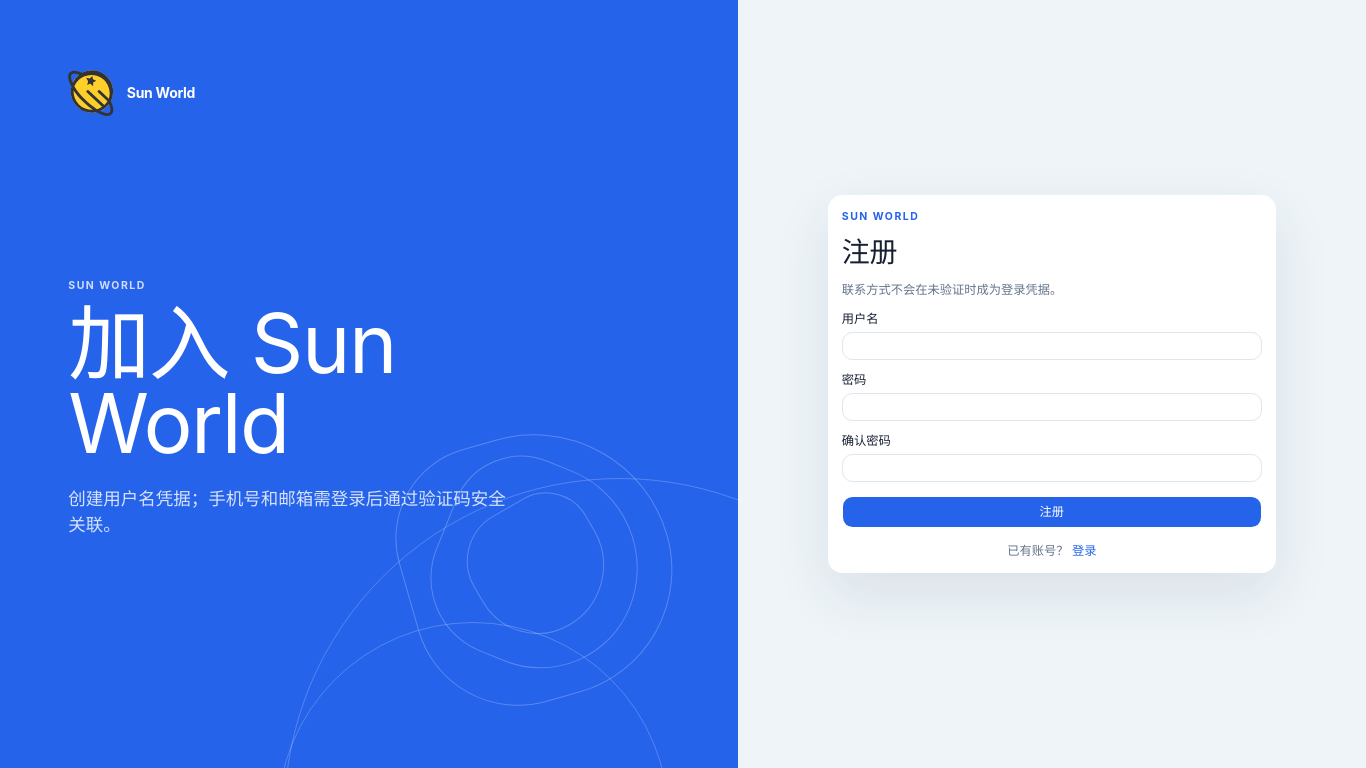
it: account pages › validates password confirmation before registration
The width and height of the screenshot is (1366, 768).
Type "Tester" into the field labelled "用户名".
click(1052, 346); type("Tester")  # box [842, 332, 1262, 360]
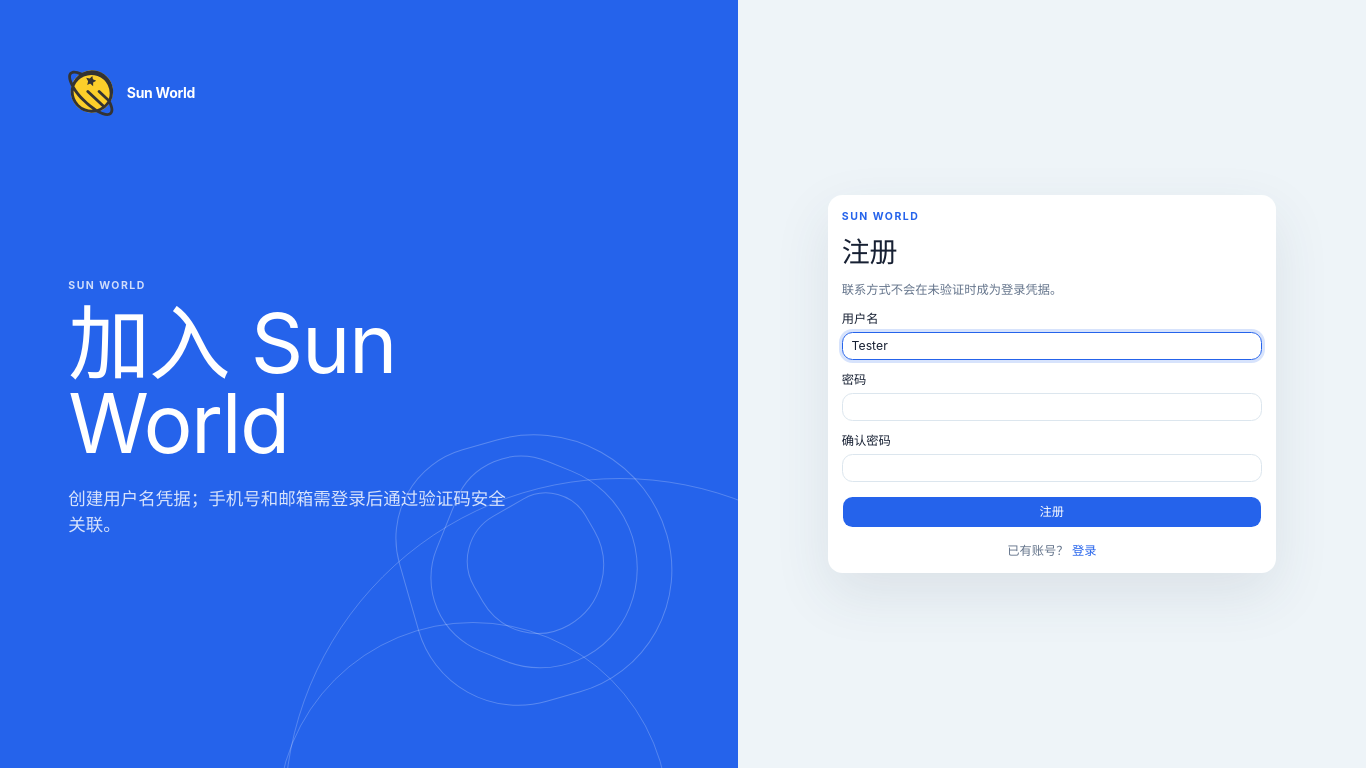
Type "secret11" into the password field labelled "密码".
click(1052, 407); type("secret11")  # box [842, 393, 1262, 421]
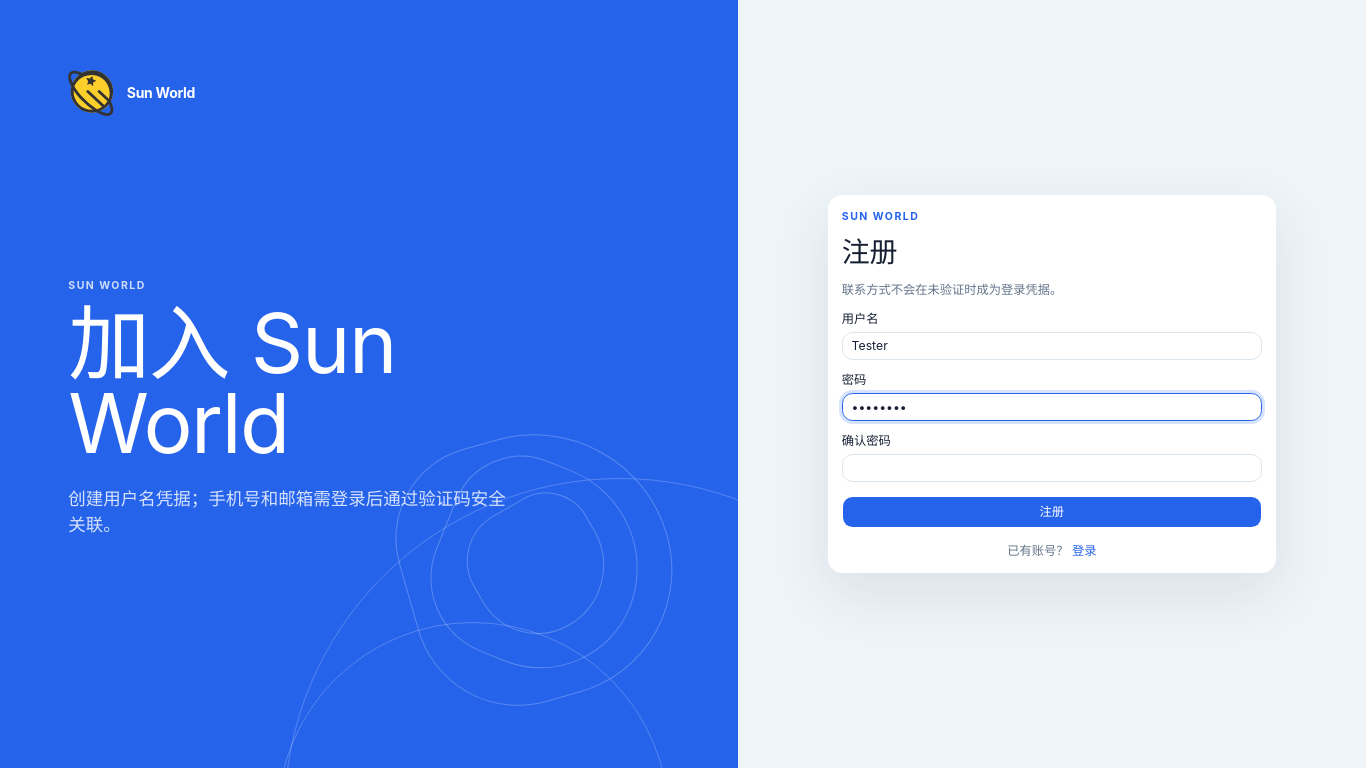
Type "secret22" into the password field labelled "确认密码".
click(1052, 468); type("secret22")  # box [842, 454, 1262, 482]
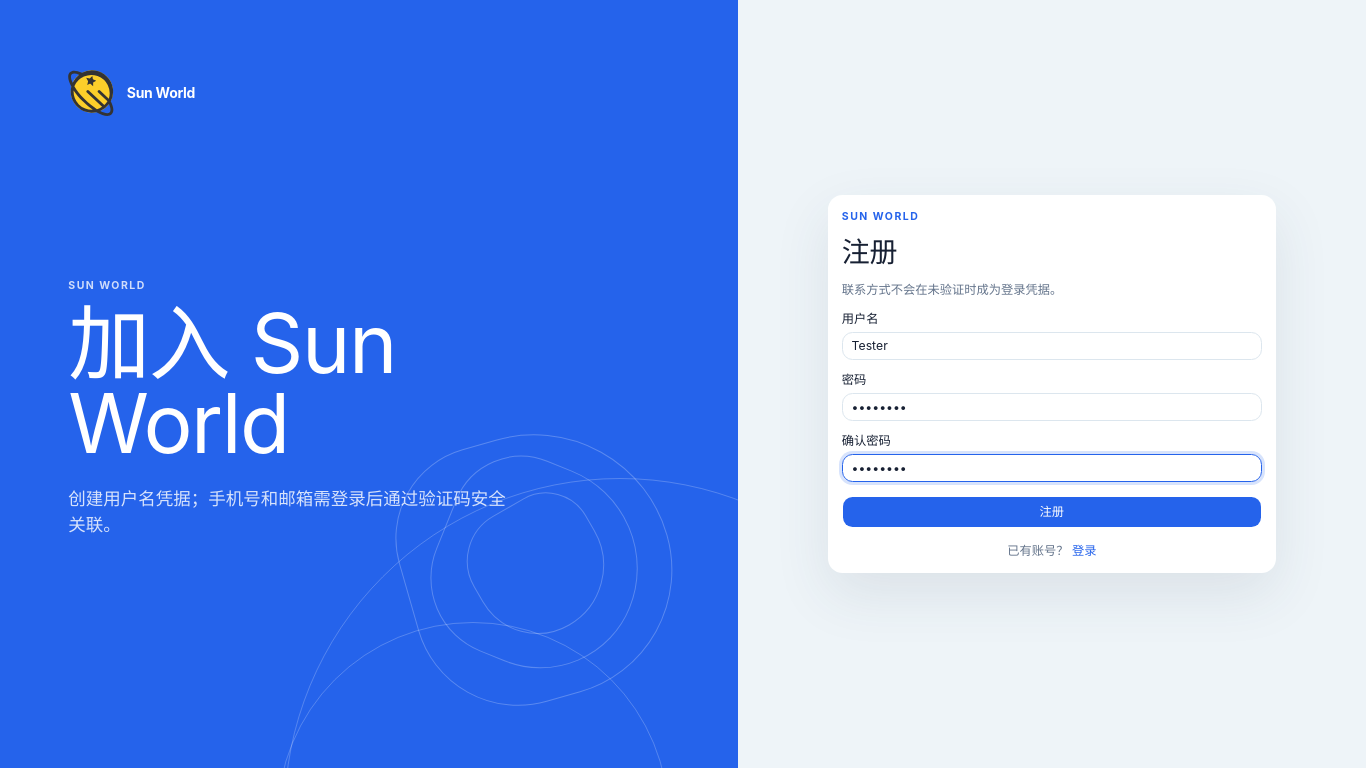
Click the button "注册".
click(1052, 512)  # box [842, 496, 1262, 528]
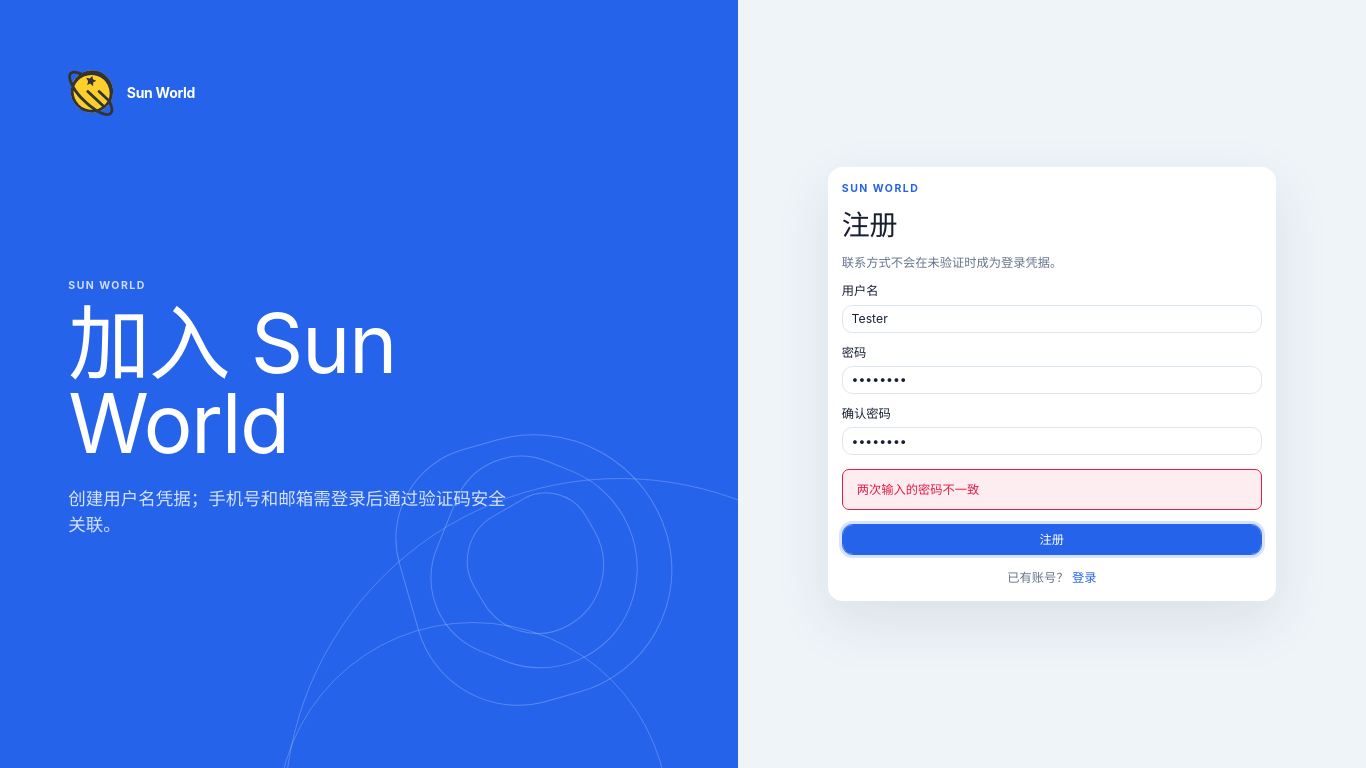
Expected: the message reads "两次输入的密码不一致", [857, 482, 979, 497]
